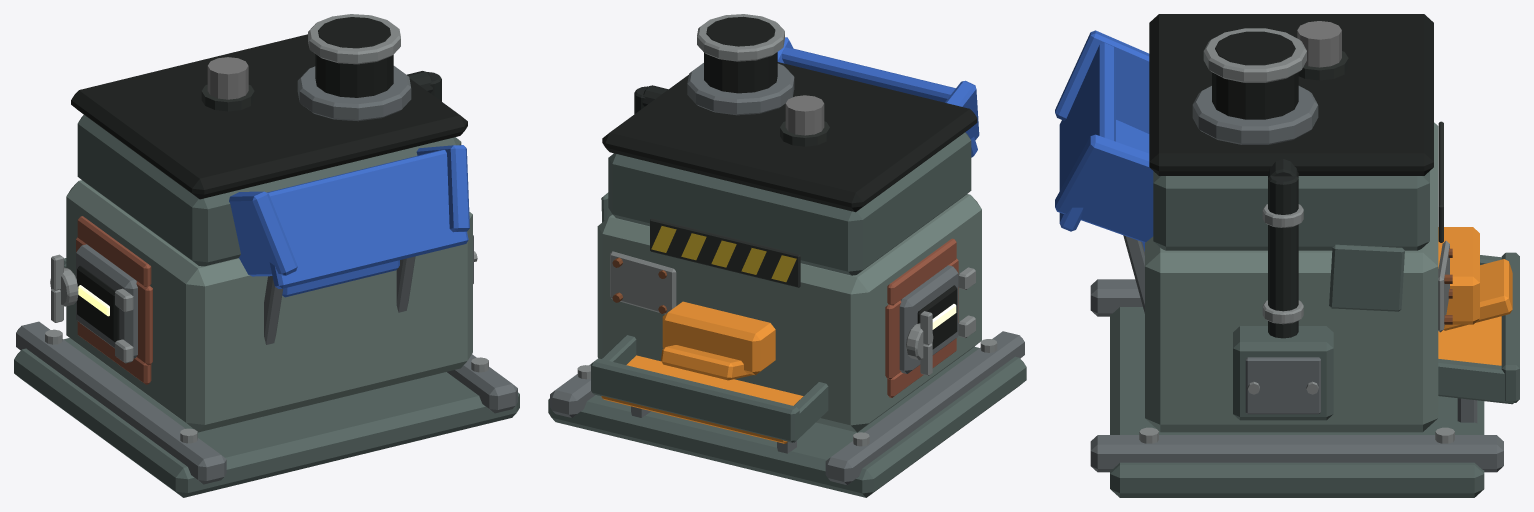
The model's file is smelter.glb.
3 renders of one model, left to right at view 1: azimuth 30°, elevation 25°; view 2: azimuth 150°, elevation 25°; view 3: azimuth 270°, elevation 25°, orthographic. The views are drawn at different scales.
Parts seen in each view (by area): view 1: smelter, Lamp; view 2: smelter, Lamp; view 3: smelter, Lamp.
Boxes of the visible parts, <box> form: smelter: <box>14,14,519,497</box>; Lamp: <box>207,57,248,99</box>; smelter: <box>548,14,1026,497</box>; Lamp: <box>785,95,824,135</box>; smelter: <box>1055,14,1519,497</box>; Lamp: <box>1297,21,1341,67</box>.
Size of the model in its own units: 1.68 by 1.58 by 1.66.
